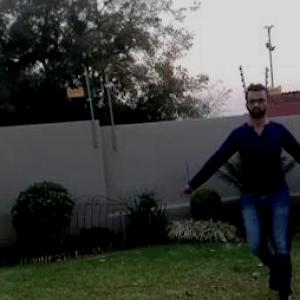land: (197, 95, 299, 279)
